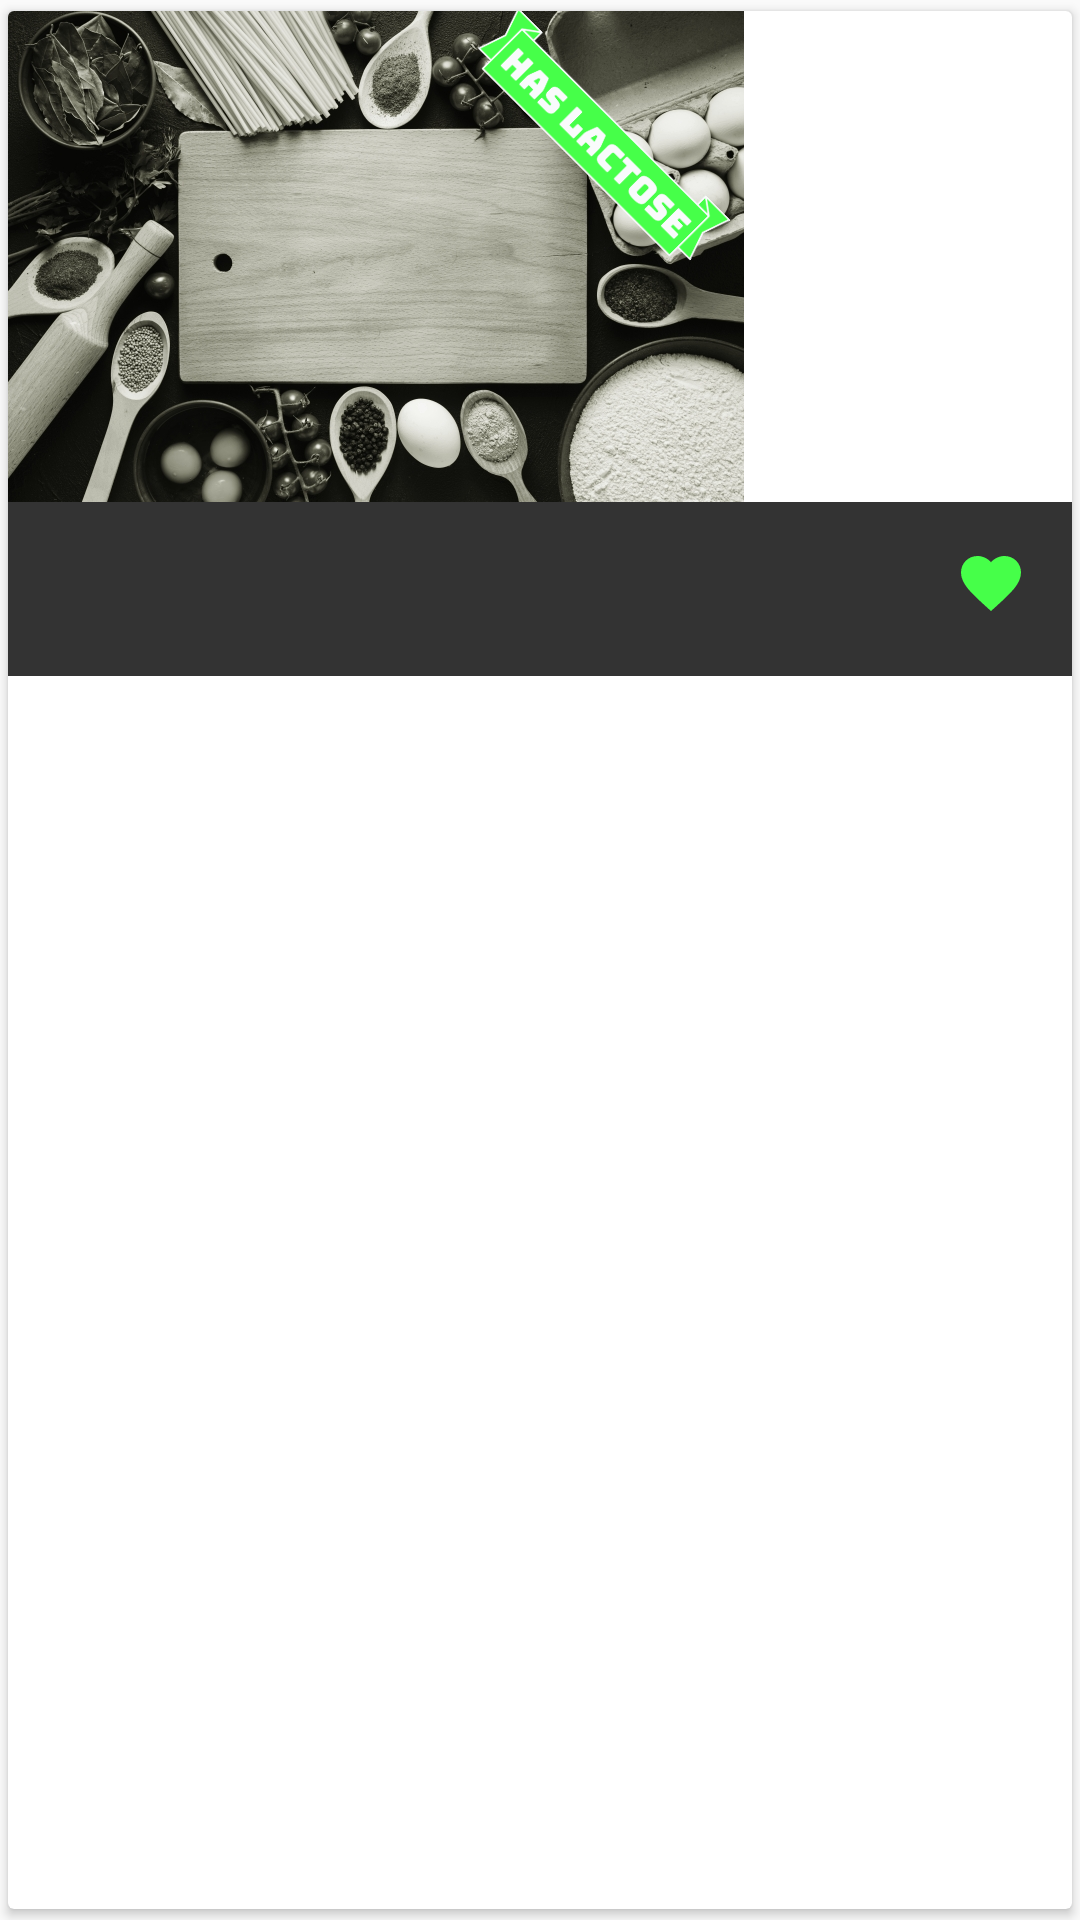

Screen size 1080*1920. Icon name, then its center in pixels as (x=x, y=y):
favorite: (x=991, y=583)
